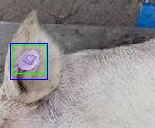text: (12, 45, 46, 73)
